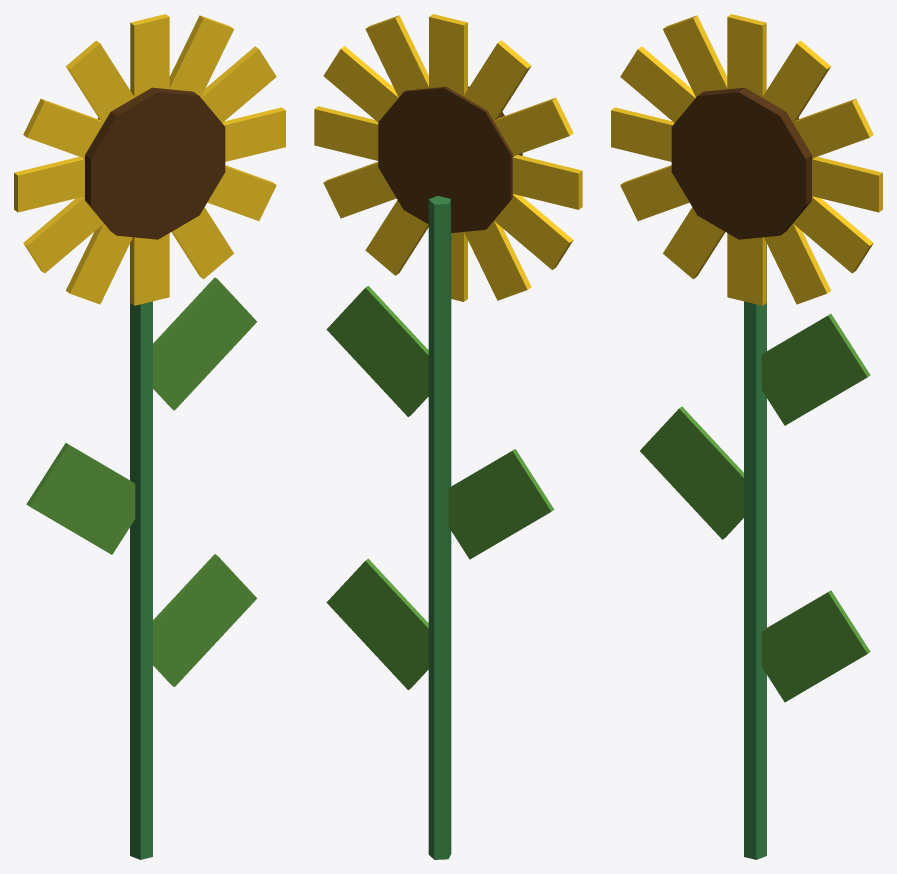
Rendered from sunflower.glb.
The picture shows the model from 3 angles, left to right: view 1: azimuth 30°, elevation 25°; view 2: azimuth 150°, elevation 25°; view 3: azimuth 330°, elevation 25°; orthographic projection.
Visible parts, largest first — view 1: sunflower; view 2: sunflower; view 3: sunflower.
Part boxes in pixels (x1,y1,x2,y2): sunflower: [14, 14, 285, 859]; sunflower: [314, 14, 582, 859]; sunflower: [611, 14, 882, 859].
Bounding box in the file's own units: 0.76 × 2.28 × 0.11.
